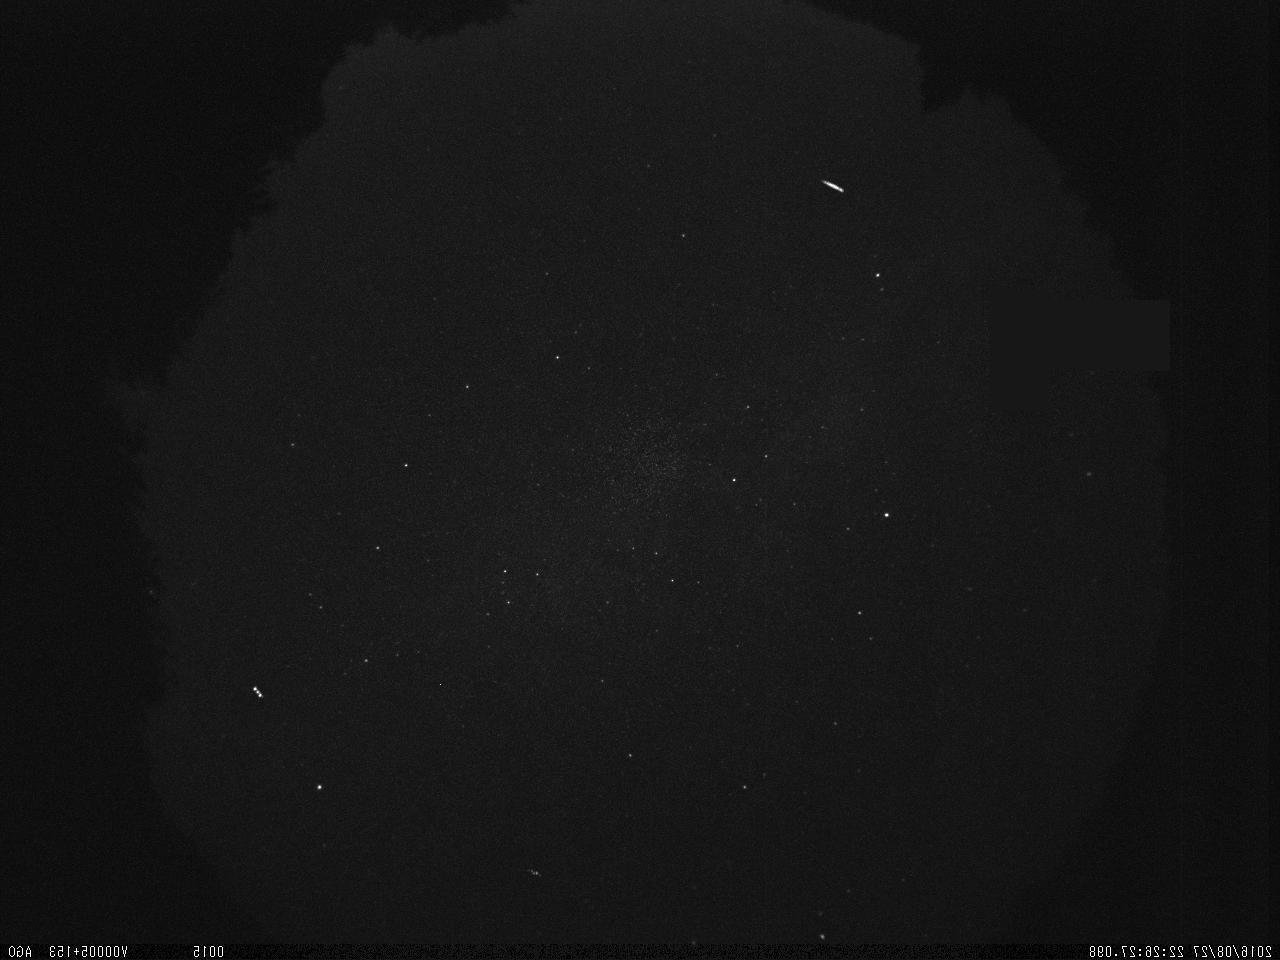meteor: (815, 173, 853, 198)
